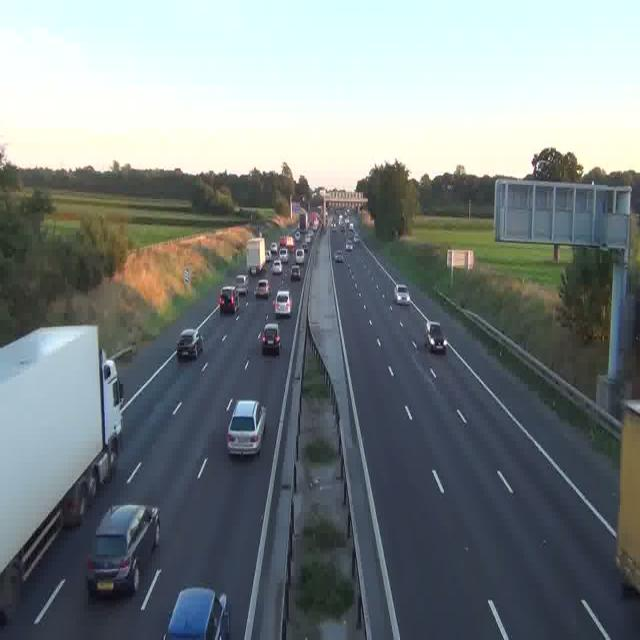car: (85, 505, 159, 598), (165, 587, 228, 640), (227, 400, 263, 456), (175, 329, 203, 361), (425, 322, 446, 354), (218, 285, 240, 314), (261, 324, 282, 354), (274, 290, 292, 316), (394, 283, 410, 305), (255, 277, 269, 298), (290, 265, 302, 280), (270, 260, 282, 274), (278, 251, 288, 264), (295, 252, 304, 266), (334, 251, 344, 262), (302, 237, 310, 250), (347, 239, 355, 250)
truck: (0, 327, 126, 622), (616, 400, 640, 597), (248, 238, 266, 273)
